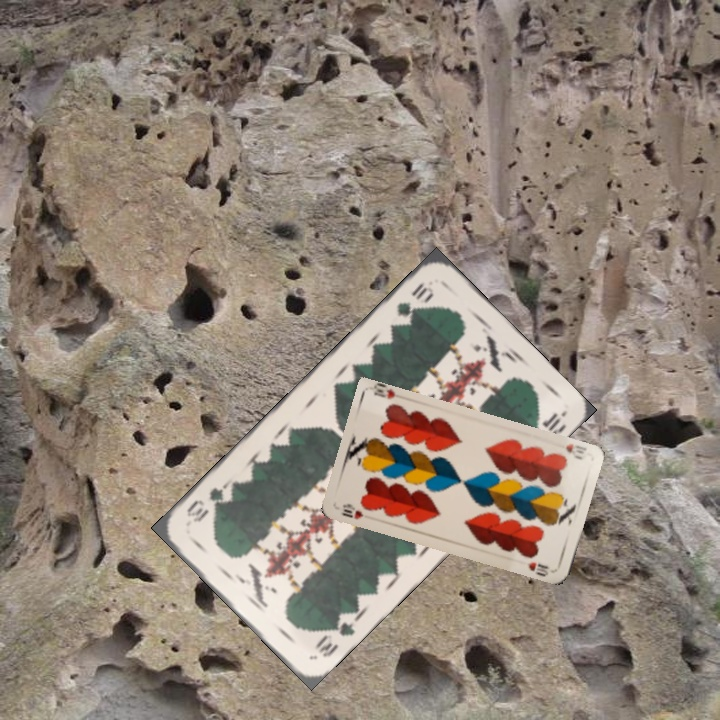G10: (311, 614, 358, 660), (392, 278, 436, 320)
H10: (561, 440, 589, 462), (338, 500, 366, 522)
